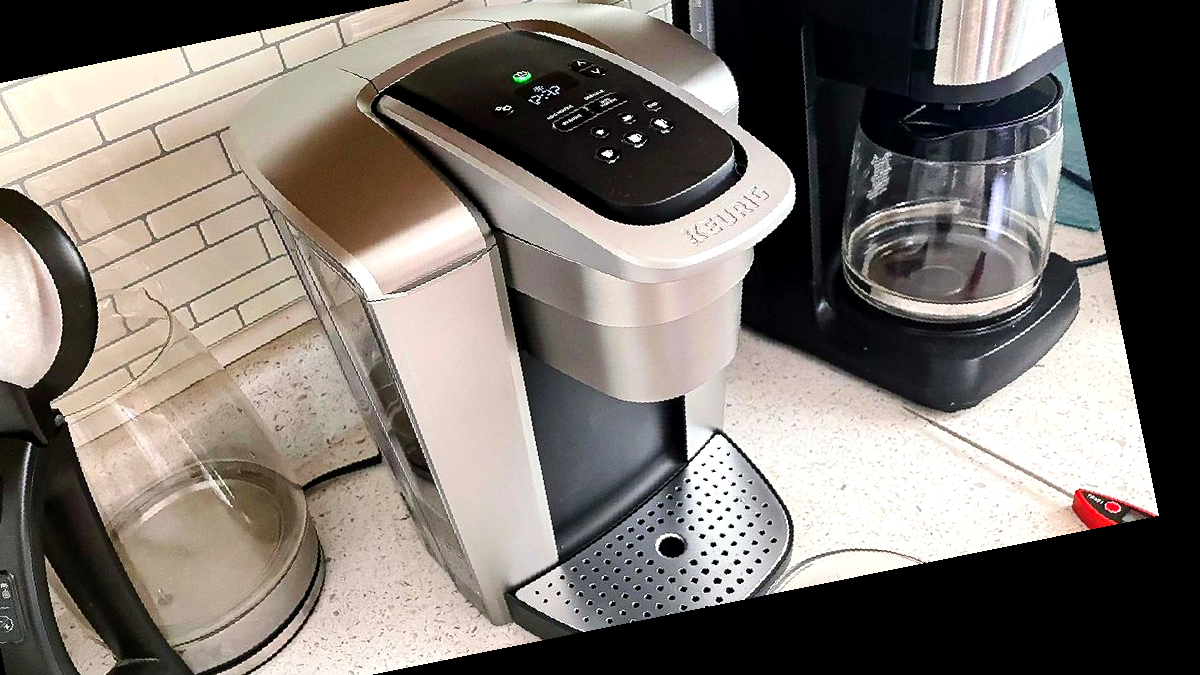10oz: (621, 129, 649, 149)
12oz: (649, 115, 677, 136)
4oz: (589, 125, 611, 140)
6oz: (616, 111, 638, 127)
8oz: (594, 144, 621, 165)
add_water: (536, 89, 581, 126)
coffee_handle: (699, 181, 820, 278)
descale: (578, 74, 615, 104)
hot: (586, 82, 631, 119)
iced: (642, 98, 664, 114)
power: (512, 68, 533, 84)
strong: (547, 103, 593, 139)
water_handle: (365, 242, 493, 312)
